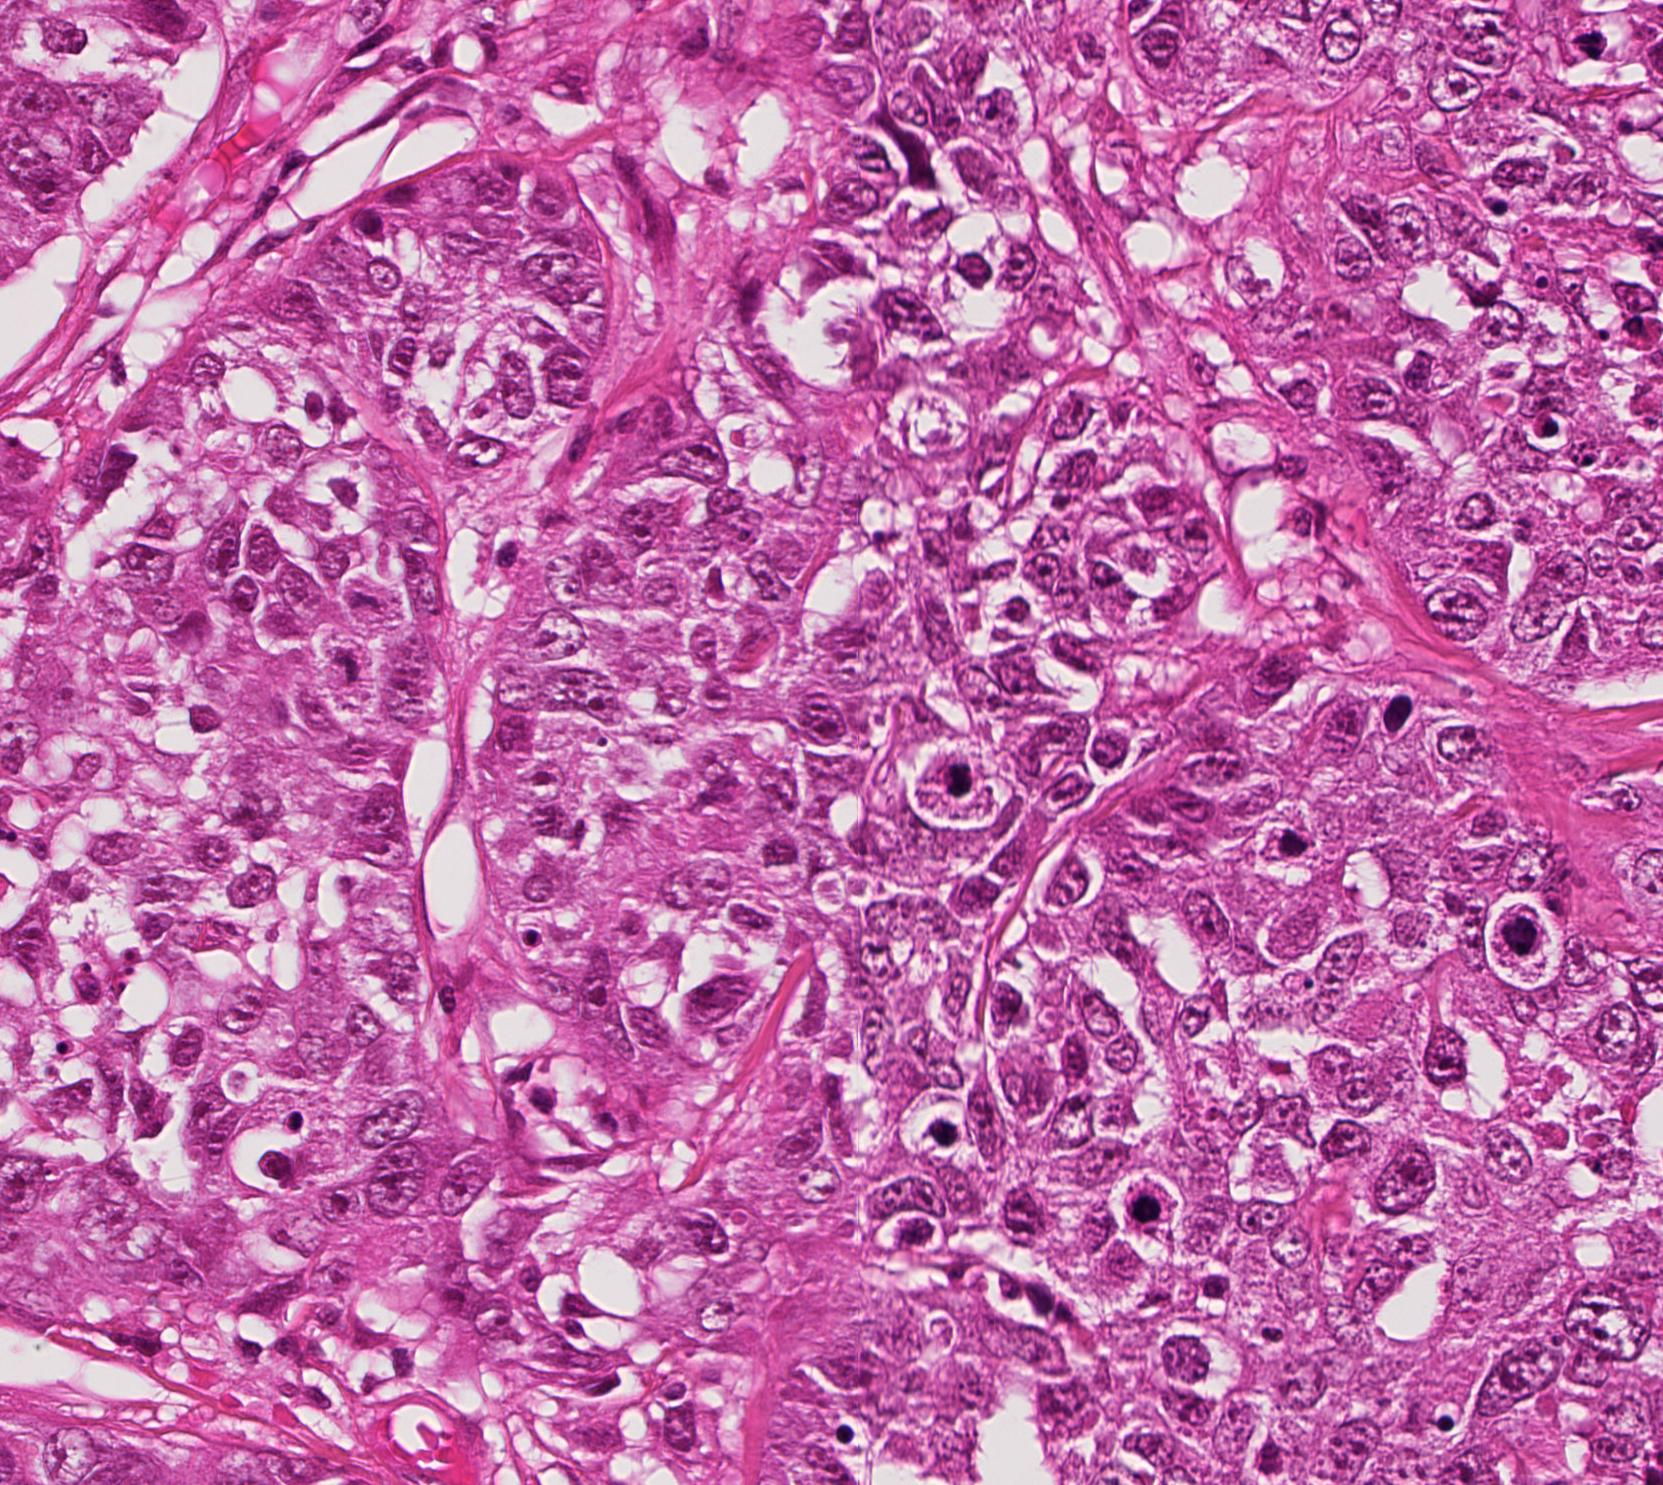mitosis: (327, 592, 387, 652)
